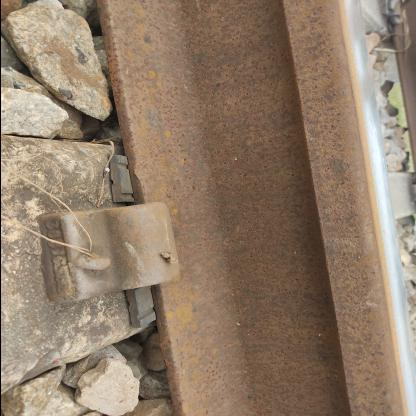Defective: (8, 164, 200, 344)
